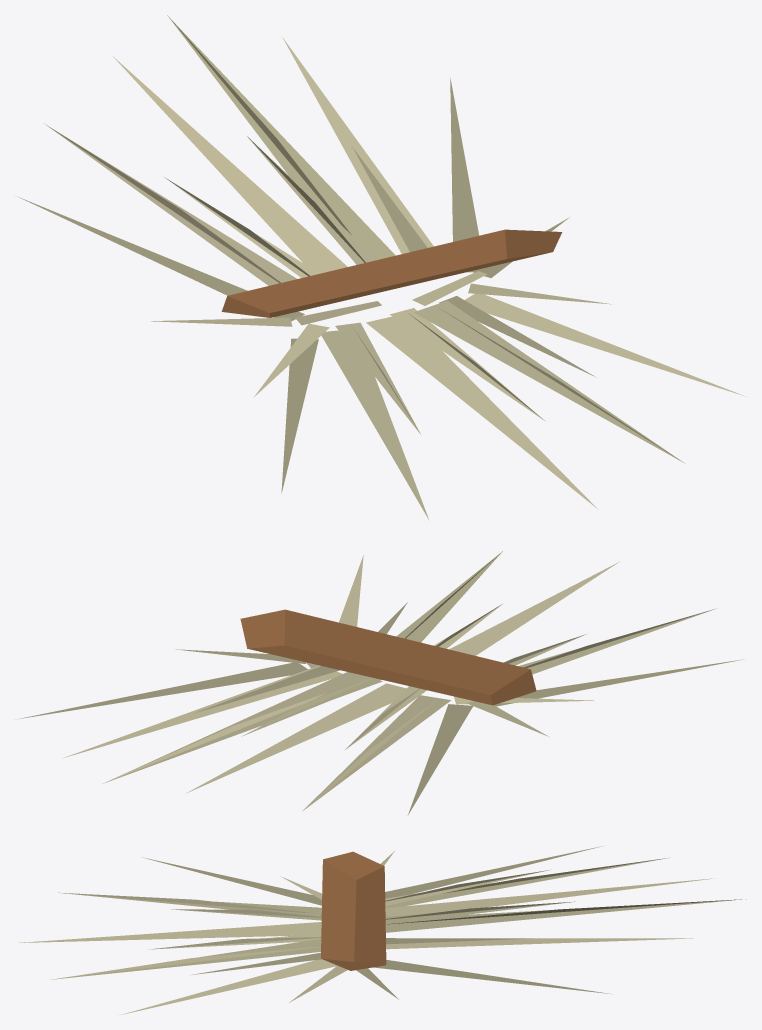
File: grain.glb
3 renders of one model, top to bottom at view 1: azimuth 30°, elevation 25°; view 2: azimuth 150°, elevation 25°; view 3: azimuth 270°, elevation 25°, orthographic. The views are drawn at different scales.
Visible parts, largest first — view 1: ordered_flat_grain_richer; view 2: ordered_flat_grain_richer; view 3: ordered_flat_grain_richer.
Part boxes in pixels (x1=…): ordered_flat_grain_richer: x1=17, y1=15, x2=745, y2=520; ordered_flat_grain_richer: x1=17, y1=551, x2=743, y2=815; ordered_flat_grain_richer: x1=19, y1=846, x2=746, y2=1014.
Size of the model in its own units: 1 by 0.192 by 1.77.
